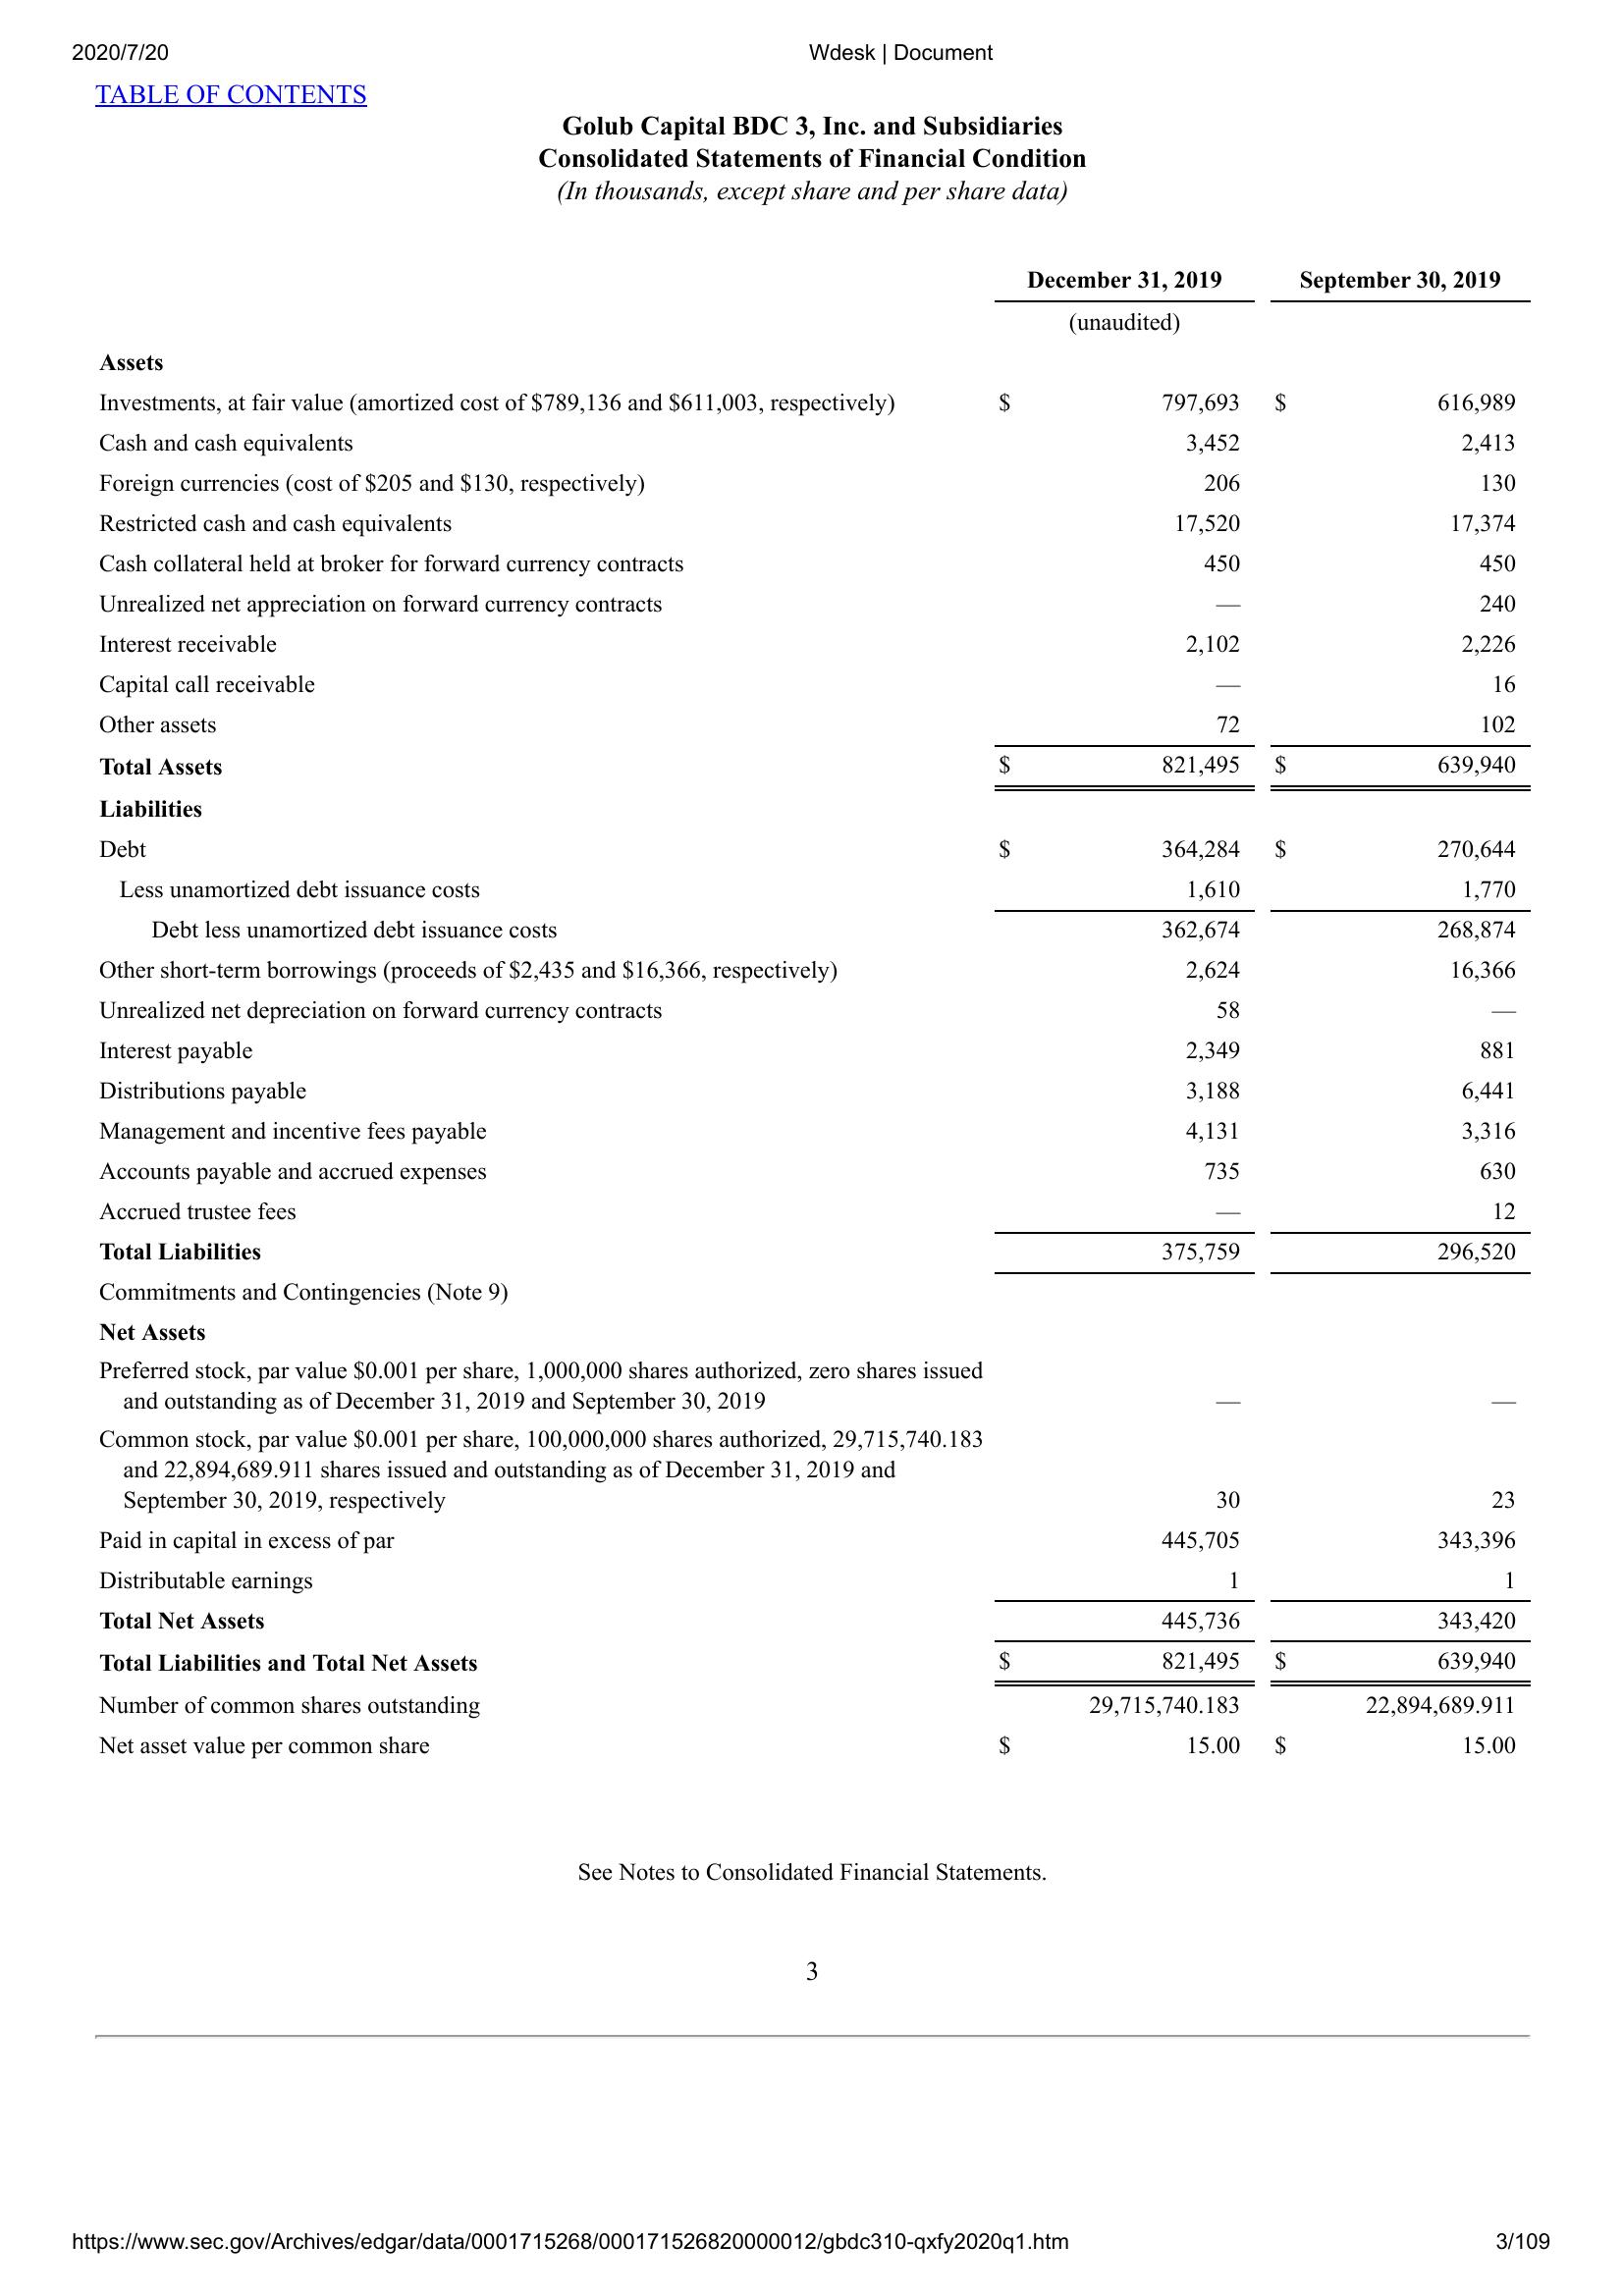table: (83, 263, 1535, 1762)
